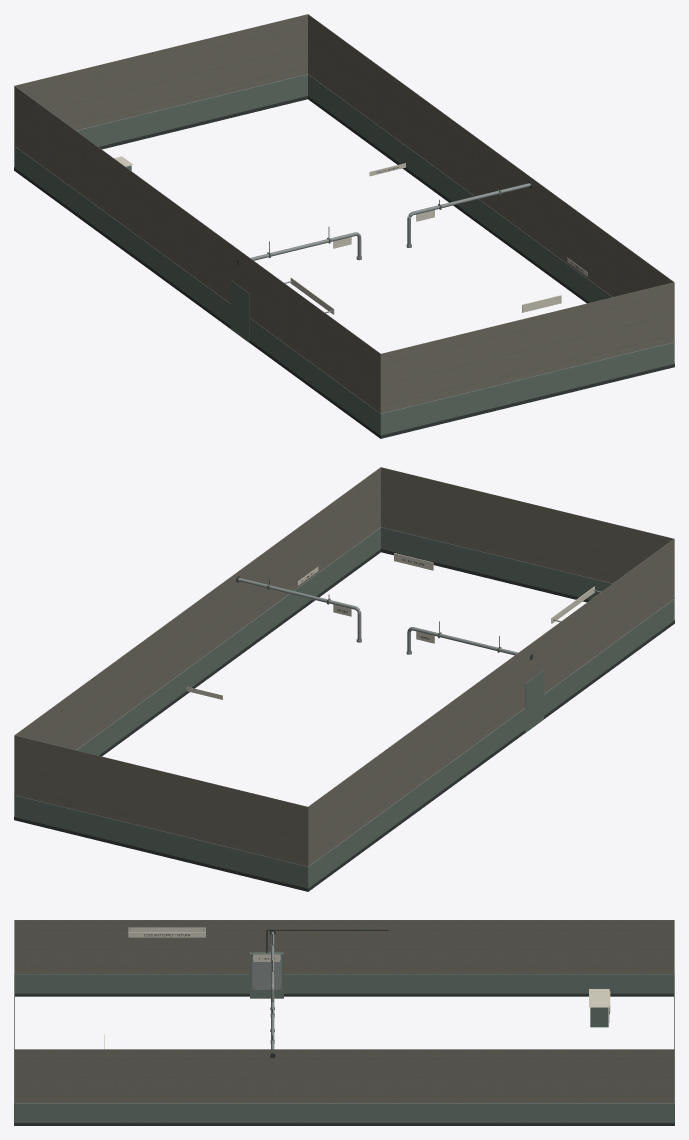
The model's file is cooling_service.glb.
3 views of the same model, one above another, from view 1: azimuth 30°, elevation 25°; view 2: azimuth 150°, elevation 25°; view 3: azimuth 270°, elevation 25° (orthographic). The views are drawn at different scales.
Parts seen in each view (by area): view 1: cooling_service / power_plaster, cooling_service / power_sage_enamel, cooling_service / power_blackened_steel, cooling_service / power_galvanized, cooling_service / power_instrument_ivory; view 2: cooling_service / power_plaster, cooling_service / power_sage_enamel, cooling_service / power_blackened_steel, cooling_service / power_galvanized, cooling_service / power_instrument_ivory; view 3: cooling_service / power_plaster, cooling_service / power_sage_enamel, cooling_service / power_blackened_steel, cooling_service / power_galvanized, cooling_service / power_instrument_ivory.
Part boxes in pixels (x1=…): cooling_service / power_plaster: x1=14, y1=14, x2=674, y2=413; cooling_service / power_sage_enamel: x1=14, y1=74, x2=674, y2=435; cooling_service / power_blackened_steel: x1=14, y1=96, x2=674, y2=438; cooling_service / power_galvanized: x1=14, y1=74, x2=674, y2=414; cooling_service / power_instrument_ivory: x1=114, y1=156, x2=587, y2=314; cooling_service / power_plaster: x1=14, y1=467, x2=674, y2=866; cooling_service / power_sage_enamel: x1=14, y1=527, x2=674, y2=888; cooling_service / power_blackened_steel: x1=14, y1=549, x2=674, y2=891; cooling_service / power_galvanized: x1=14, y1=527, x2=674, y2=867; cooling_service / power_instrument_ivory: x1=186, y1=553, x2=594, y2=699; cooling_service / power_plaster: x1=14, y1=920, x2=674, y2=1102; cooling_service / power_sage_enamel: x1=14, y1=944, x2=674, y2=1122; cooling_service / power_blackened_steel: x1=14, y1=929, x2=674, y2=1125; cooling_service / power_galvanized: x1=14, y1=928, x2=674, y2=1103; cooling_service / power_instrument_ivory: x1=104, y1=927, x2=610, y2=1049.
Size of the model in its own units: 13.82 by 3.81 by 29.82.
Materials: 5 (3 with a texture image).
